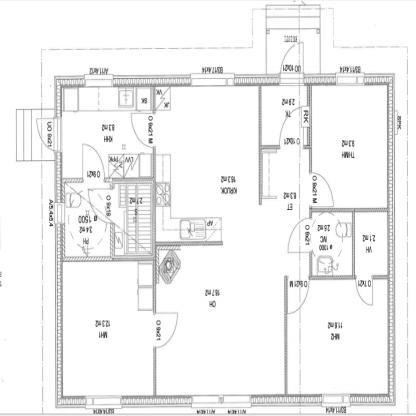door: (274, 105, 307, 153), (278, 39, 306, 91), (128, 103, 158, 151), (304, 169, 338, 211), (78, 141, 107, 186), (150, 310, 179, 354), (33, 112, 63, 154), (85, 185, 115, 225), (287, 216, 317, 256), (284, 275, 311, 316), (351, 271, 374, 309)
window: (187, 391, 255, 411), (185, 68, 238, 92), (317, 384, 353, 410), (332, 65, 368, 91), (83, 389, 125, 411), (81, 68, 115, 92), (54, 200, 68, 226)
